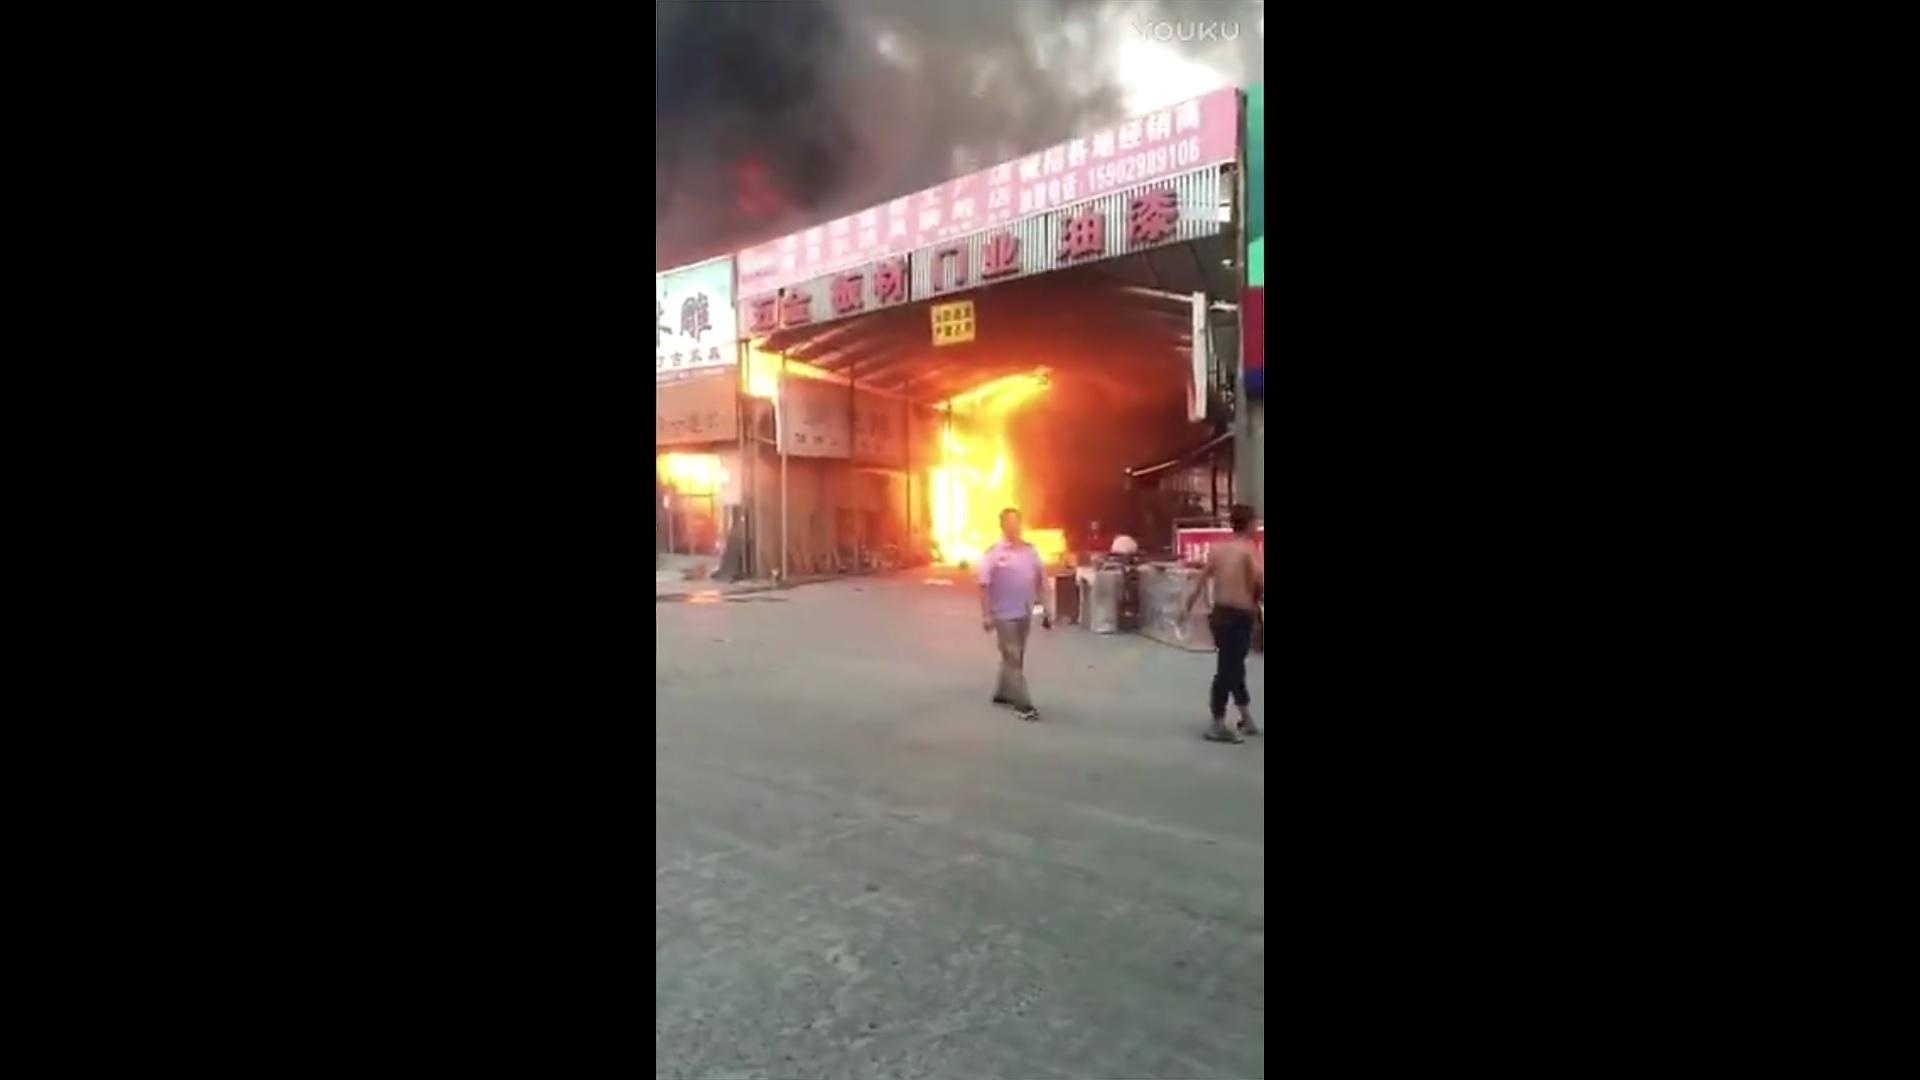fire: (916, 372, 1063, 576), (742, 338, 814, 397), (659, 446, 735, 496)
